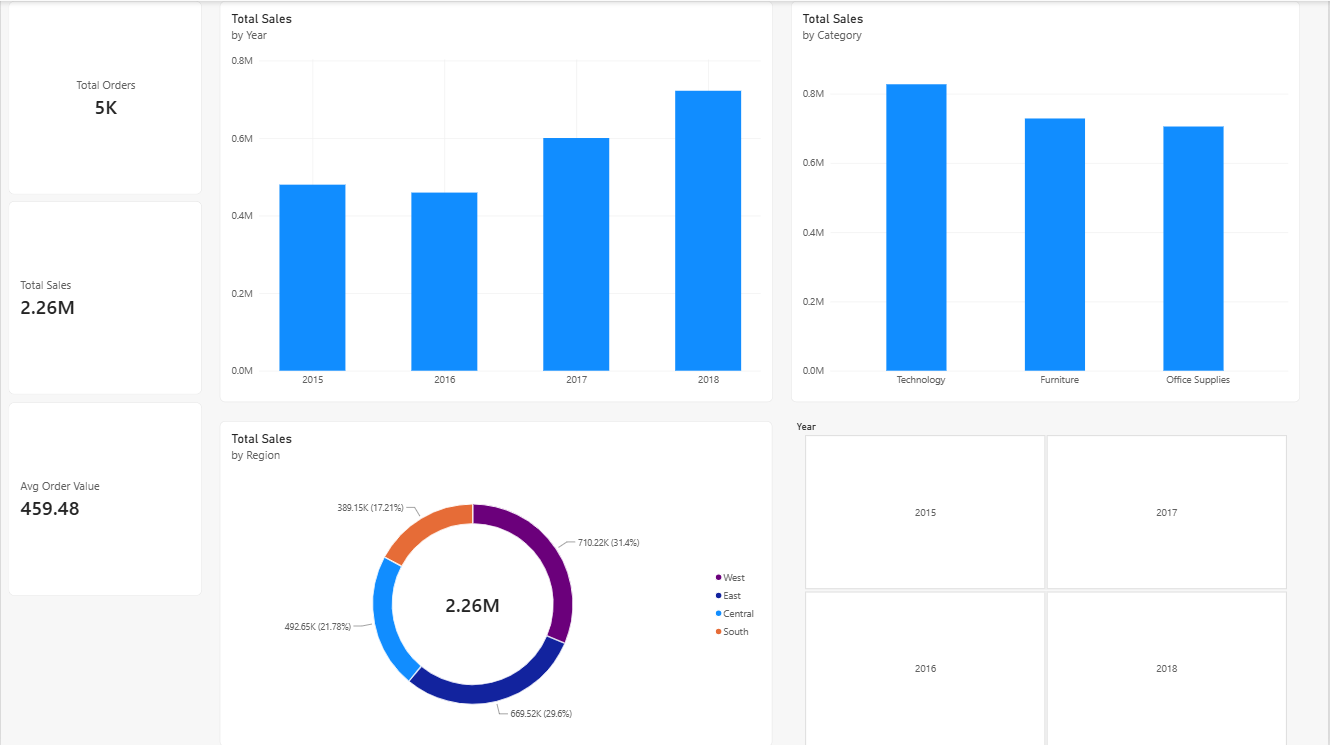

The dashboard page shown, as its layout file describes it:
{"tool":"powerbi","page":{"name":"Page 1","canvas":[1920,1080],"ordinal":0},"visuals":[{"type":"cardVisual","fields":{"Data":["Calendar.Total Orders"]},"box":[10,0,280,280],"z":0},{"type":"cardVisual","fields":{"Data":["sales.Total Sales"]},"box":[10,290,280,280],"z":1},{"type":"cardVisual","fields":{"Data":["Calendar.Avg Order Value"]},"box":[10,580,280,280],"z":2},{"type":"clusteredColumnChart","fields":{"Category":["Calendar.Year"],"Y":["sales.Total Sales"]},"box":[316.7,0,800.7,580.4],"z":3},{"type":"clusteredColumnChart","fields":{"Category":["sales.Category"],"Y":["sales.Total Sales"]},"box":[1143.7,0,736.9,580.4],"z":4},{"type":"donutChart","fields":{"Category":["sales.Region"],"Y":["sales.Total Sales"]},"box":[316.7,608,799.9,472.3],"z":5},{"type":"slicer","fields":{"Values":["Calendar.Year"]},"box":[1143.7,608,736.5,472.3],"z":6}]}

Visuals, with their boxes in screenshot pixels (x1, y1, x2, y2), scaled from the page's 1920x1080 canvas onto the 1330x745 screenshot:
cardVisual - Calendar.Total Orders: 7/0/201/193
cardVisual - sales.Total Sales: 7/200/201/393
cardVisual - Calendar.Avg Order Value: 7/400/201/593
clusteredColumnChart - Calendar.Year x sales.Total Sales: 219/0/774/400
clusteredColumnChart - sales.Category x sales.Total Sales: 792/0/1303/400
donutChart - sales.Region x sales.Total Sales: 219/419/773/744
slicer - Calendar.Year: 792/419/1302/744
